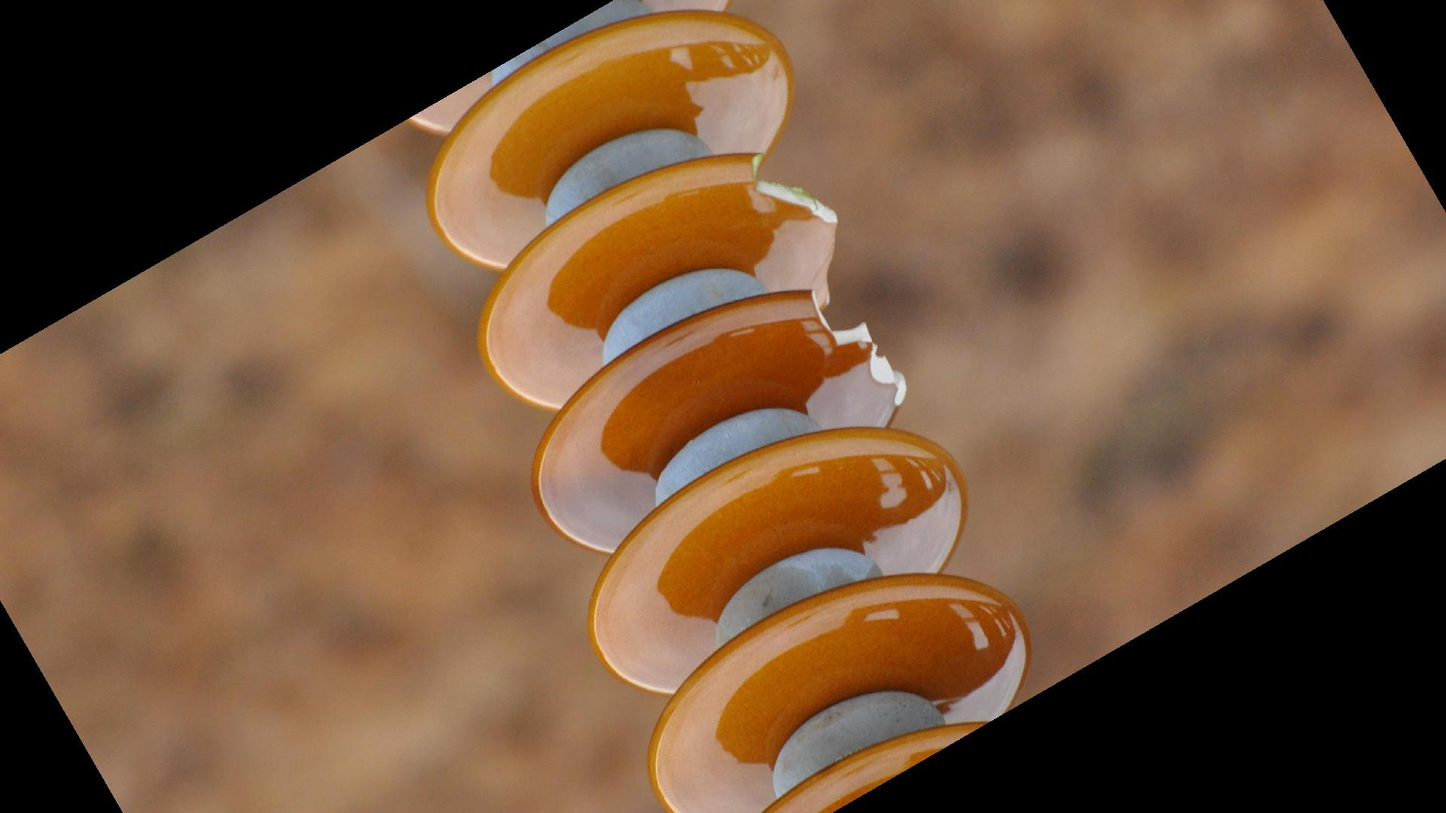insulator: (398, 1, 1039, 813)
insulator_breakage: (742, 146, 847, 309), (799, 286, 915, 414)
